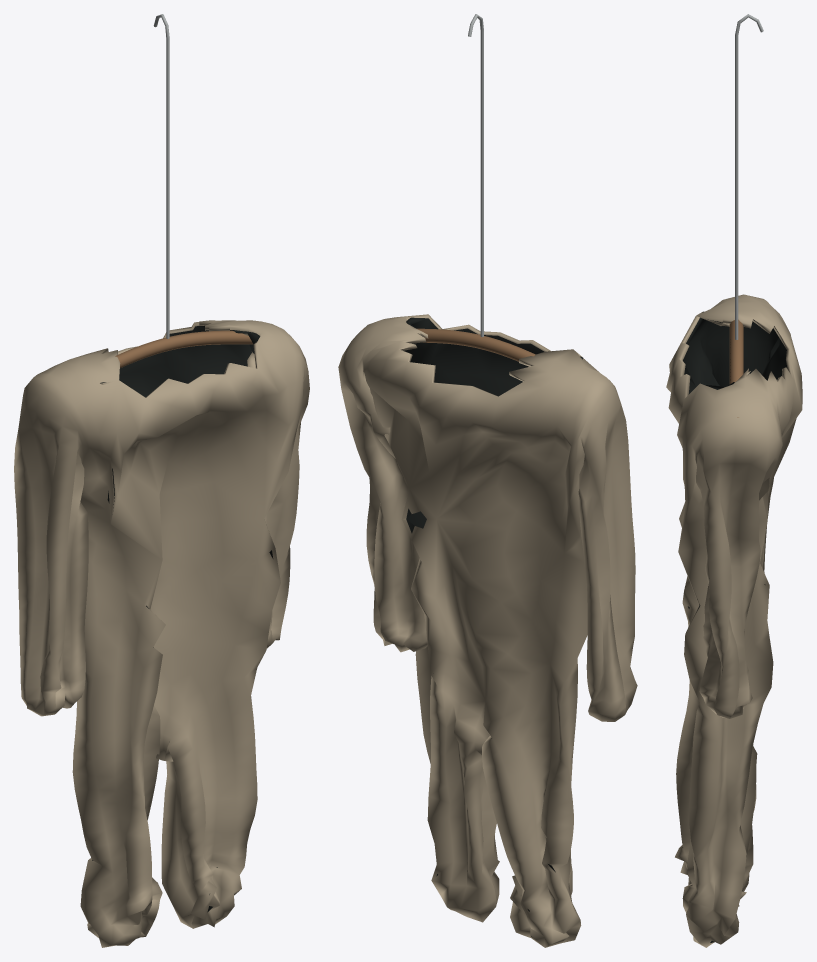
Rendered from hanging-suit-c.glb.
The picture shows the model from 3 angles, left to right: view 1: azimuth 30°, elevation 25°; view 2: azimuth 150°, elevation 25°; view 3: azimuth 270°, elevation 25°; orthographic projection. The views are drawn at different scales.
Parts seen in each view (by area): view 1: Suit, HangerArm, HangerHook; view 2: Suit, HangerArm, HangerHook; view 3: Suit, HangerHook, HangerArm.
Part boxes in pixels (bbox=[...]): Suit: bbox=[14, 320, 309, 947]; HangerArm: bbox=[115, 330, 252, 368]; HangerHook: bbox=[153, 14, 169, 338]; Suit: bbox=[338, 314, 637, 947]; HangerArm: bbox=[362, 328, 535, 361]; HangerHook: bbox=[468, 14, 483, 336]; Suit: bbox=[666, 294, 802, 947]; HangerHook: bbox=[735, 14, 763, 339]; HangerArm: bbox=[729, 319, 743, 417].
Size of the model in its own units: 0.8243 by 2.62 by 0.353.
